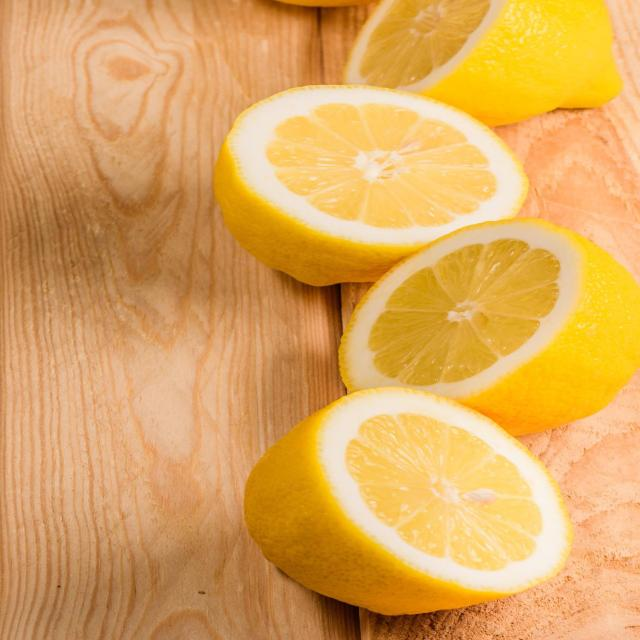lemon: (236, 385, 583, 621), (199, 75, 536, 288)
